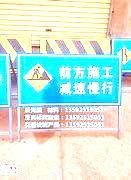sign: (18, 54, 123, 106)
